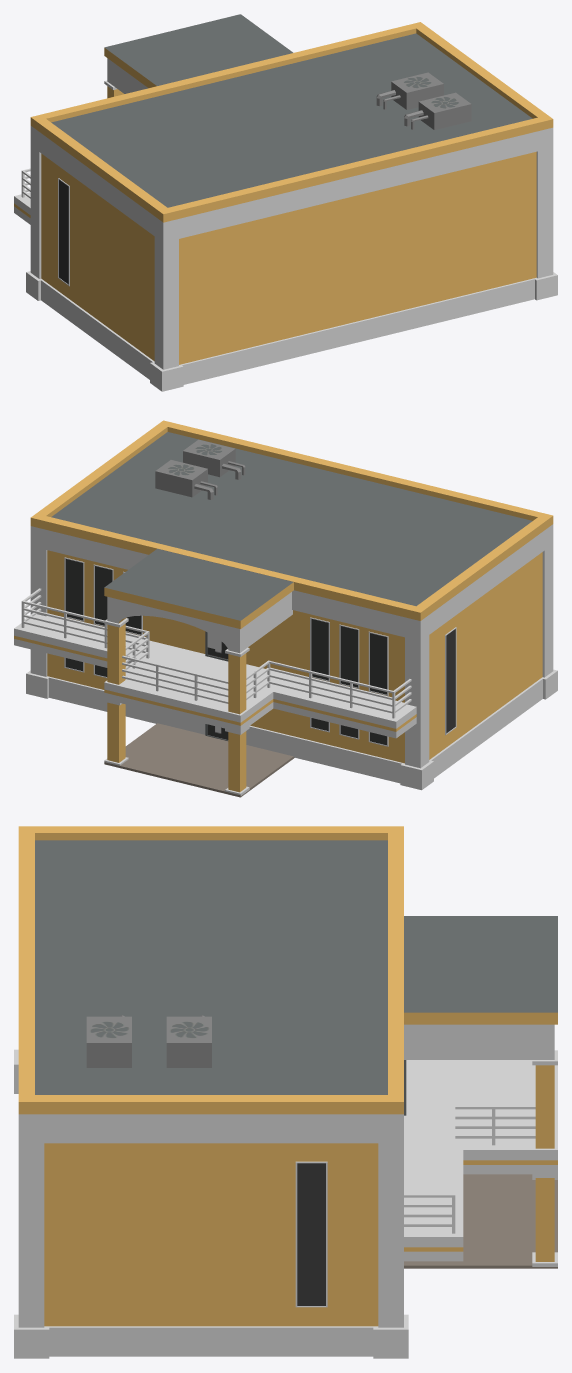
File: Casa Principal.fbx
3 renders of one model, top to bottom at view 1: azimuth 30°, elevation 25°; view 2: azimuth 150°, elevation 25°; view 3: azimuth 270°, elevation 25°, orthographic. The views are drawn at different scales.
Parts seen in each view (by area): view 1: Casa do Personagem; view 2: Casa do Personagem; view 3: Casa do Personagem.
Part boxes in pixels (x1,y1,x2,y2): Casa do Personagem: [14, 14, 557, 391]; Casa do Personagem: [14, 420, 557, 797]; Casa do Personagem: [14, 826, 557, 1358].
Bounding box in the file's own units: 5477 × 2500 × 4496.
2 materials, 1 textured.
